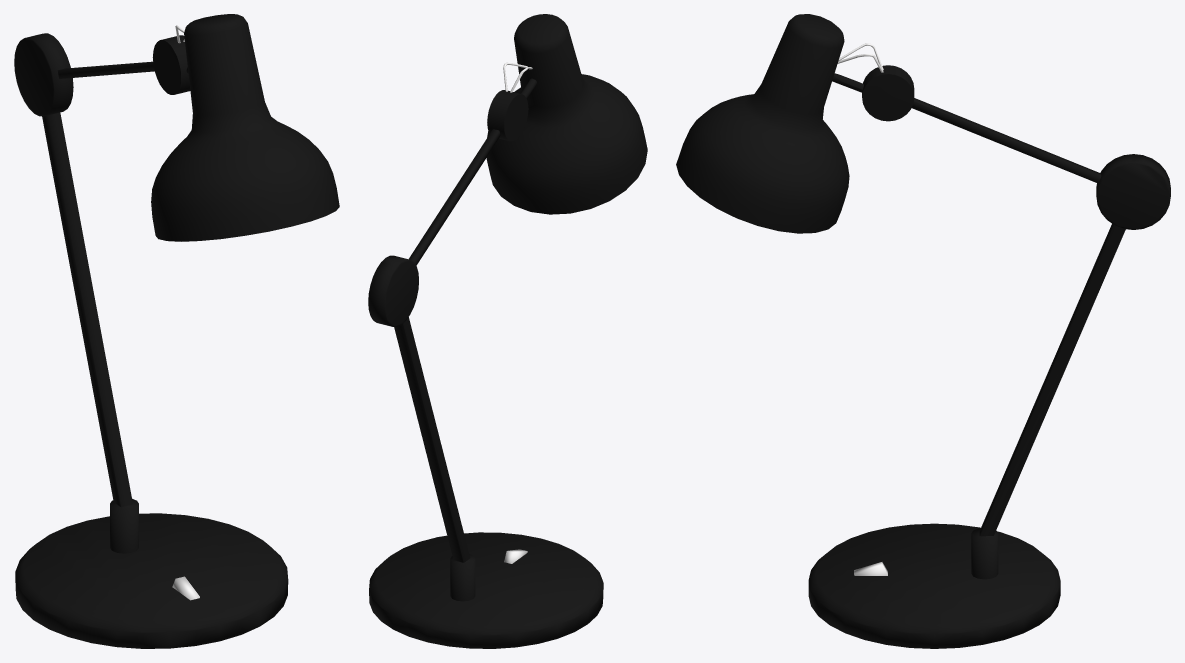
File: Desk_Lamp.fbx
3 renders of one model, left to right at view 1: azimuth 30°, elevation 25°; view 2: azimuth 150°, elevation 25°; view 3: azimuth 270°, elevation 25°, orthographic. The views are drawn at different scales.
Parts seen in each view (by area): view 1: Lamp__Base_LOD_0, Lamp_Head_LOD_0, Lamp_Rotate_LOD_0; view 2: Lamp__Base_LOD_0, Lamp_Head_LOD_0, Lamp_Rotate_LOD_0; view 3: Lamp__Base_LOD_0, Lamp_Head_LOD_0, Lamp_Rotate_LOD_0.
Boxes of the visible parts, x1,y1,x2,y2 form: Lamp__Base_LOD_0: (15, 112, 288, 648); Lamp_Head_LOD_0: (151, 14, 339, 241); Lamp_Rotate_LOD_0: (14, 33, 154, 116); Lamp__Base_LOD_0: (369, 317, 603, 648); Lamp_Head_LOD_0: (486, 14, 647, 214); Lamp_Rotate_LOD_0: (368, 129, 500, 326); Lamp__Base_LOD_0: (808, 224, 1125, 648); Lamp_Head_LOD_0: (676, 14, 914, 233); Lamp_Rotate_LOD_0: (911, 98, 1170, 229).
Size of what is drawn, in the model's own units: 20.04 by 50.62 by 39.33.
